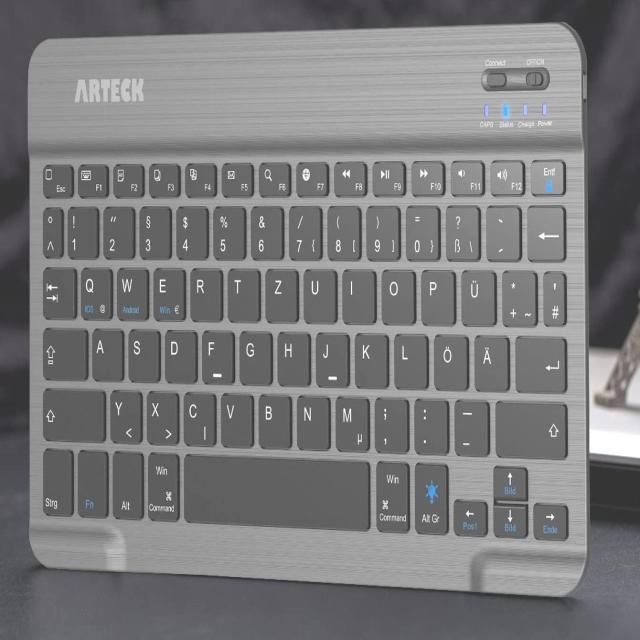0: (404, 202, 439, 260)
1: (66, 204, 97, 259)
2: (102, 203, 133, 258)
3: (138, 203, 170, 258)
4: (174, 204, 207, 259)
5: (211, 203, 244, 259)
6: (249, 203, 282, 259)
7: (287, 202, 321, 260)
8: (325, 202, 360, 260)
9: (364, 202, 399, 259)
a: (90, 325, 122, 381)
accent: (484, 202, 520, 259)
ae: (473, 332, 509, 390)
alt-left: (111, 449, 145, 521)
altgr-right: (413, 460, 450, 538)
b: (256, 391, 290, 447)
c: (181, 390, 215, 445)
caret: (41, 204, 63, 257)
comma: (373, 394, 408, 452)
d: (163, 326, 195, 383)
del: (526, 203, 567, 264)
e: (151, 264, 184, 321)
enter: (515, 332, 567, 392)
f: (200, 328, 232, 384)
g: (238, 328, 271, 384)
h: (276, 329, 308, 385)
hash: (541, 268, 567, 326)
i: (340, 265, 375, 322)
j: (314, 328, 347, 386)
k: (353, 329, 387, 387)
keyboard: (35, 145, 574, 562)
l: (392, 330, 427, 388)
m: (333, 393, 368, 450)
minus: (451, 397, 489, 455)
n: (294, 391, 329, 449)
o: (379, 265, 414, 323)
oe: (432, 332, 467, 390)
p: (419, 266, 454, 324)
plus: (499, 266, 536, 327)
point: (412, 395, 448, 453)
q: (79, 265, 112, 319)
r: (189, 266, 221, 321)
s: (127, 327, 158, 382)
shift-left: (41, 385, 104, 441)
shift-lock: (41, 325, 86, 380)
shift-right: (494, 397, 567, 458)
space: (183, 453, 369, 533)
ss: (443, 202, 479, 260)
strg-left: (41, 445, 73, 516)
t: (226, 265, 259, 321)
tab: (40, 264, 77, 319)
u: (302, 265, 336, 323)
ue: (459, 266, 495, 325)
v: (219, 390, 252, 446)
w: (115, 264, 148, 319)
x: (145, 388, 177, 443)
y: (108, 387, 141, 442)
z: (263, 265, 297, 321)
